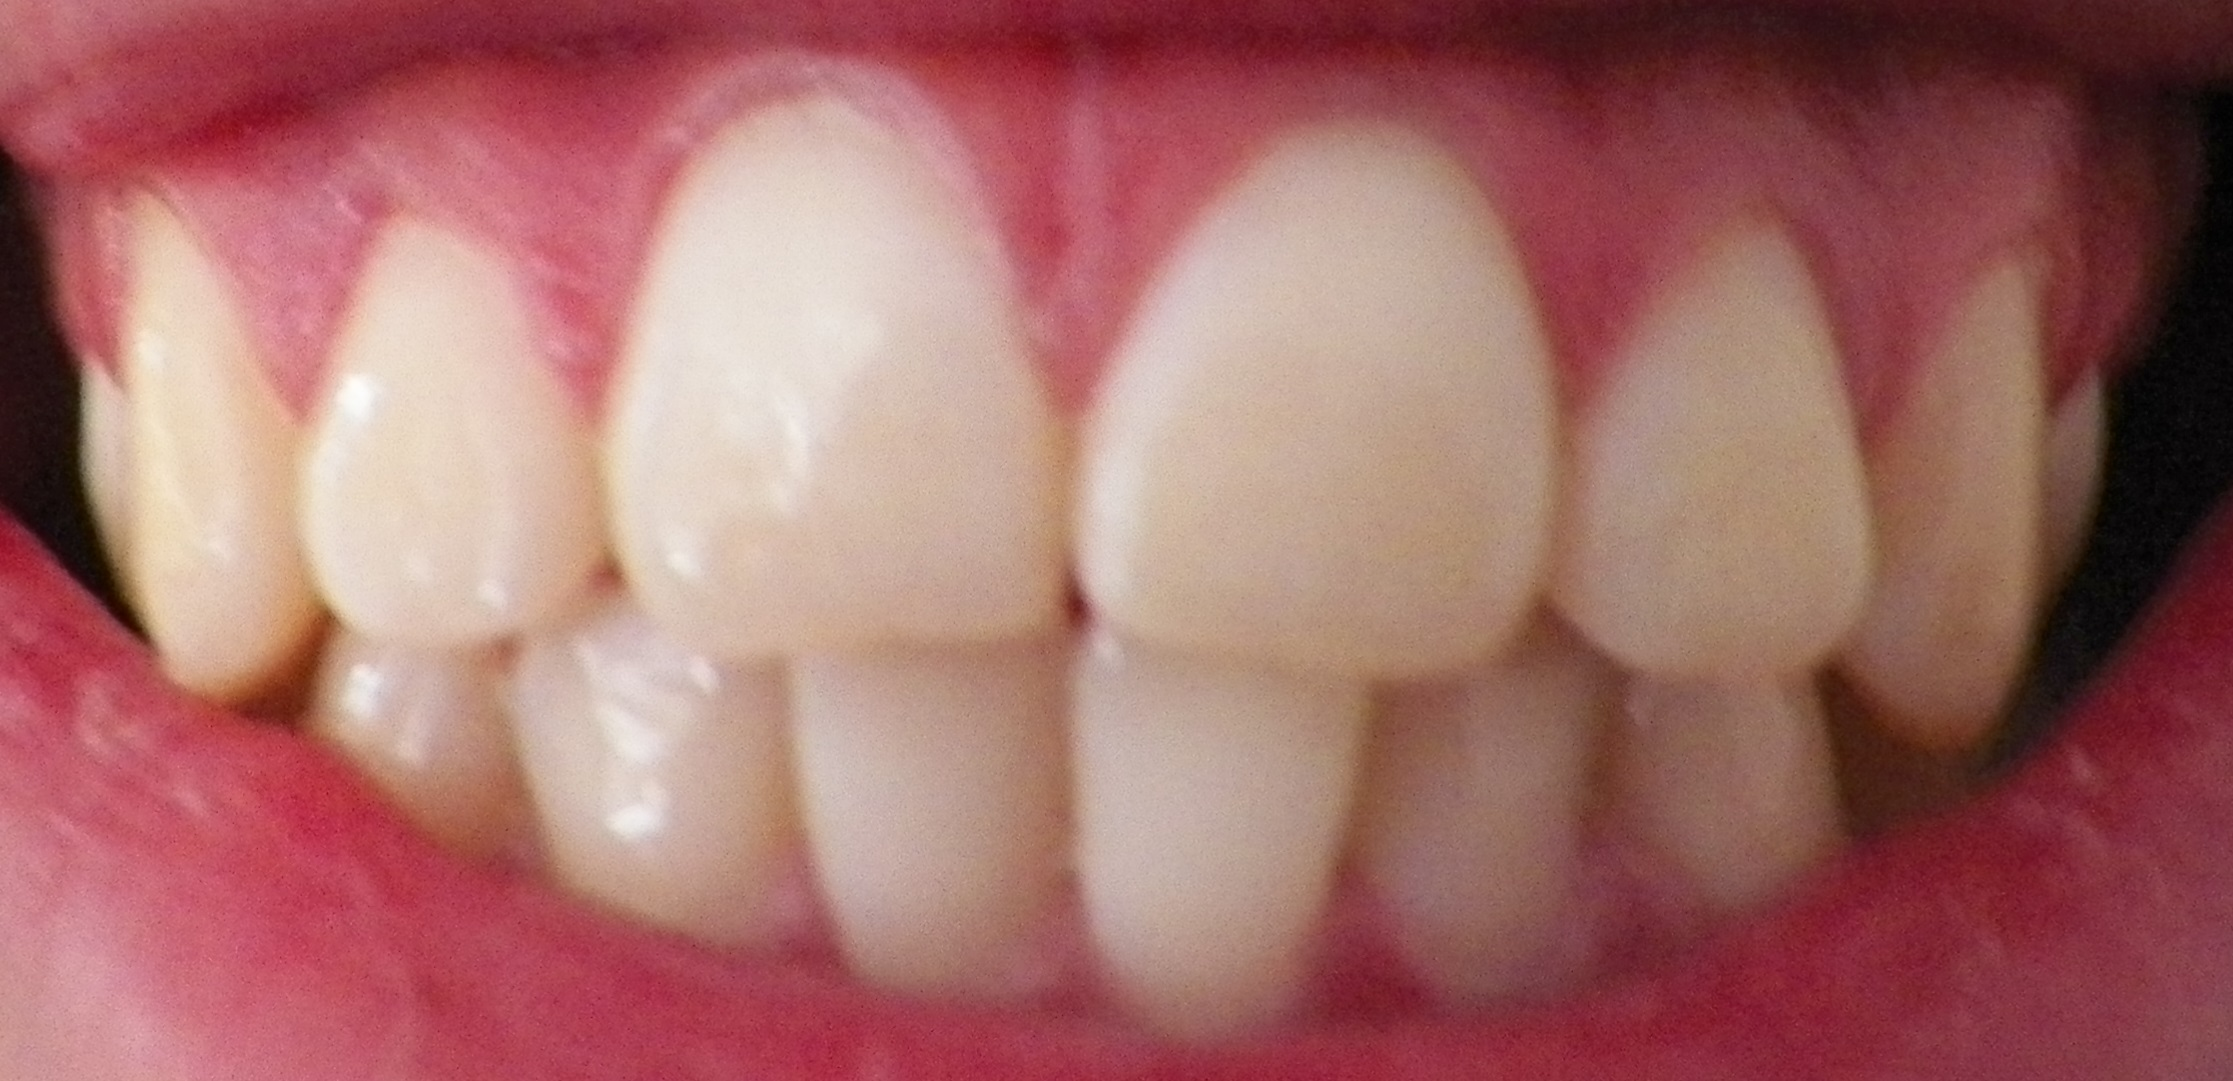boca: (78, 85, 2085, 1040)
